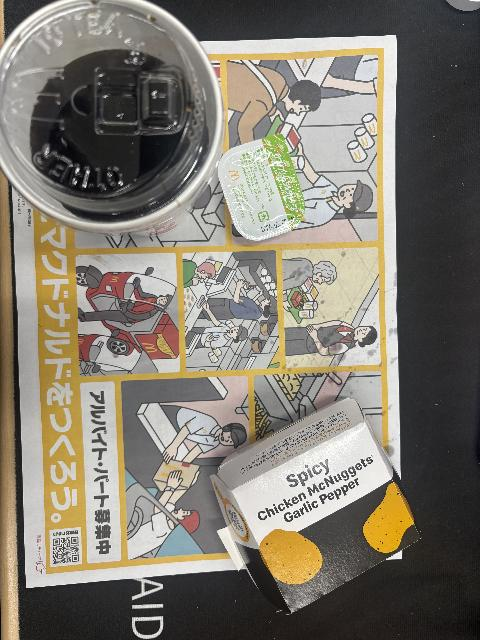drink: (0, 0, 224, 236)
nuggets: (211, 396, 429, 617)
sauce: (219, 131, 306, 244)
